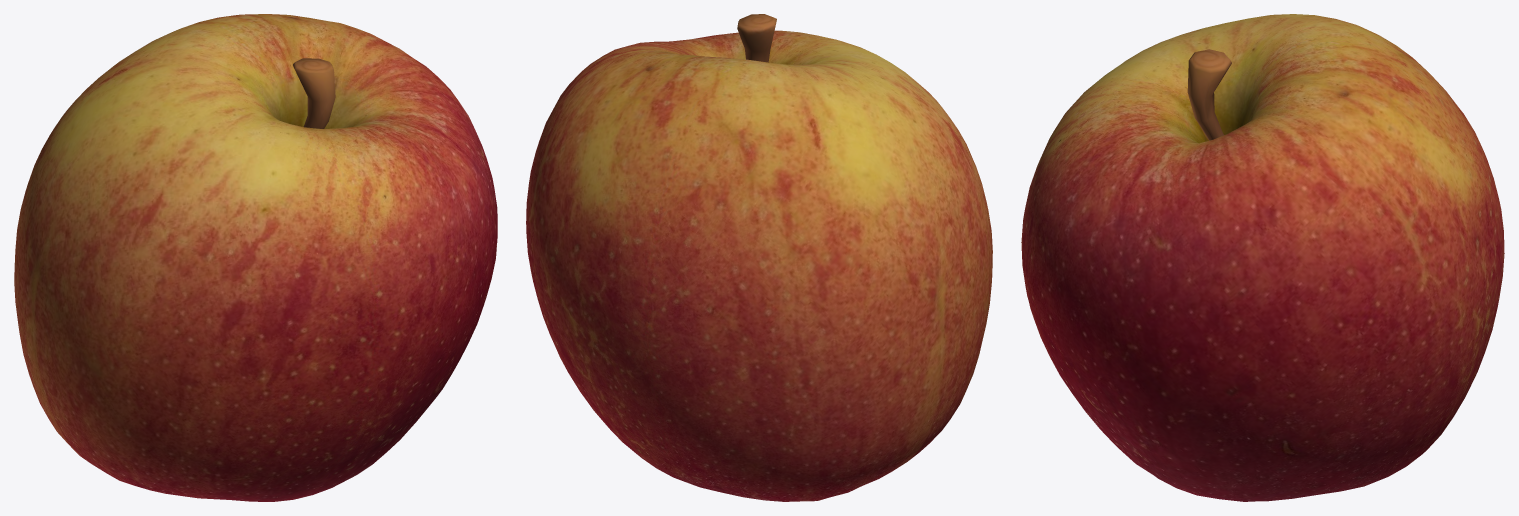
Rendered from apple_whole_folder3.glb.
3 views of the same model, side by side, from view 1: azimuth 30°, elevation 25°; view 2: azimuth 150°, elevation 25°; view 3: azimuth 270°, elevation 25° (orthographic). The views are drawn at different scales.
Visible parts, largest first — view 1: APPLE_green_Bitten.002; view 2: APPLE_green_Bitten.002; view 3: APPLE_green_Bitten.002.
Part boxes in pixels (x1,y1,x2,y2): APPLE_green_Bitten.002: (14,14,497,501); APPLE_green_Bitten.002: (526,14,992,501); APPLE_green_Bitten.002: (1021,14,1504,501).
Bounding box in the file's own units: 0.0834 × 0.0787 × 0.0814.
Materials: 2 (2 with a texture image).
